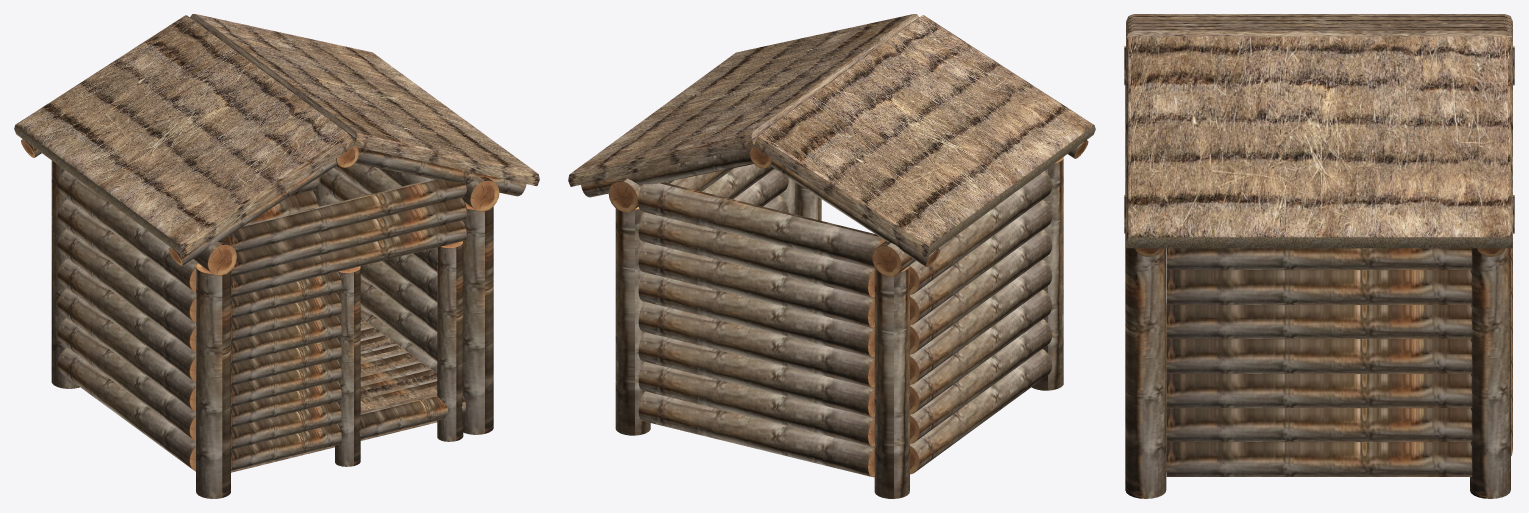
File: Log cabin.fbx
3 views of the same model, side by side, from view 1: azimuth 30°, elevation 25°; view 2: azimuth 150°, elevation 25°; view 3: azimuth 270°, elevation 25° (orthographic). The views are drawn at different scales.
Visible parts, largest first — view 1: pCube2, pCube3, pCylinder4, pCylinder18, pCylinder50, pCylinder35, pCylinder39, pCylinder33, pCylinder36, pCylinder1, pCylinder7, pCylinder5 (+27 smaller); view 2: pCube2, pCube3, pCylinder49, pCylinder9, pCylinder25, pCylinder22, pCylinder20, pCylinder19, pCylinder23, pCylinder21, pCylinder24, pCylinder10 (+16 smaller); view 3: pCube3, pCylinder12, pCylinder14, pCylinder17, pCylinder15, pCylinder13, pCylinder16, pCylinder18, pCylinder10, pCube2, pCylinder11.
Boxes of the visible parts, x1=… form: pCube2: x1=14, y1=15, x2=354, y2=256; pCube3: x1=190, y1=14, x2=539, y2=186; pCylinder4: x1=196, y1=263, x2=230, y2=498; pCylinder18: x1=462, y1=202, x2=493, y2=434; pCylinder50: x1=223, y1=179, x2=466, y2=252; pCylinder35: x1=231, y1=198, x2=466, y2=276; pCylinder39: x1=437, y1=241, x2=463, y2=441; pCylinder33: x1=231, y1=220, x2=466, y2=297; pCylinder36: x1=335, y1=266, x2=360, y2=466; pCylinder1: x1=57, y1=347, x2=195, y2=471; pCylinder7: x1=57, y1=258, x2=195, y2=382; pCylinder5: x1=57, y1=199, x2=195, y2=322; pCube2: x1=754, y1=15, x2=1095, y2=257; pCube3: x1=568, y1=14, x2=919, y2=186; pCylinder49: x1=638, y1=182, x2=885, y2=268; pCylinder9: x1=874, y1=265, x2=909, y2=498; pCylinder25: x1=638, y1=391, x2=874, y2=477; pCylinder22: x1=638, y1=302, x2=874, y2=387; pCylinder20: x1=638, y1=242, x2=874, y2=327; pCylinder19: x1=638, y1=212, x2=874, y2=297; pCylinder23: x1=638, y1=332, x2=874, y2=417; pCylinder21: x1=638, y1=272, x2=874, y2=357; pCylinder24: x1=638, y1=362, x2=874, y2=446; pCylinder10: x1=615, y1=207, x2=650, y2=435; pCube3: x1=1126, y1=36, x2=1512, y2=248; pCylinder12: x1=1166, y1=270, x2=1472, y2=304; pCylinder14: x1=1166, y1=339, x2=1472, y2=373; pCylinder17: x1=1166, y1=442, x2=1472, y2=476; pCylinder15: x1=1166, y1=374, x2=1472, y2=408; pCylinder13: x1=1166, y1=305, x2=1472, y2=338; pCylinder16: x1=1166, y1=408, x2=1472, y2=441; pCylinder18: x1=1125, y1=233, x2=1166, y2=498; pCylinder10: x1=1470, y1=248, x2=1510, y2=498; pCube2: x1=1126, y1=14, x2=1512, y2=40; pCylinder11: x1=1166, y1=248, x2=1472, y2=269.
Size of the model in its own units: 5.86 by 5.21 by 4.76.
Materials: 5 (5 with a texture image).
